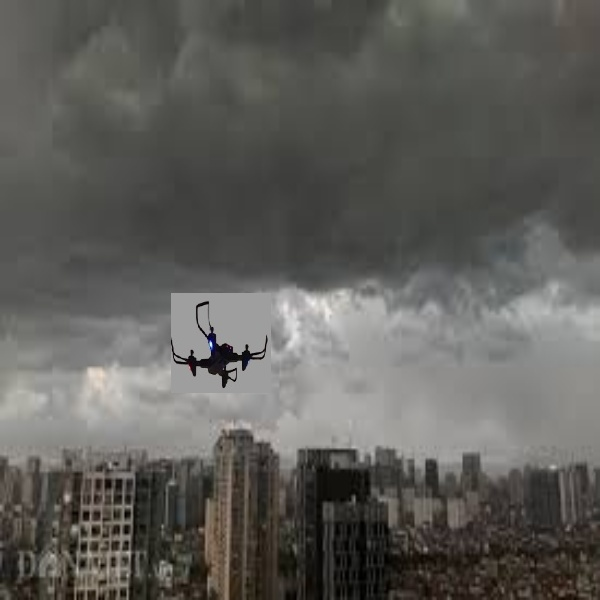drone: (170, 294, 273, 392)
